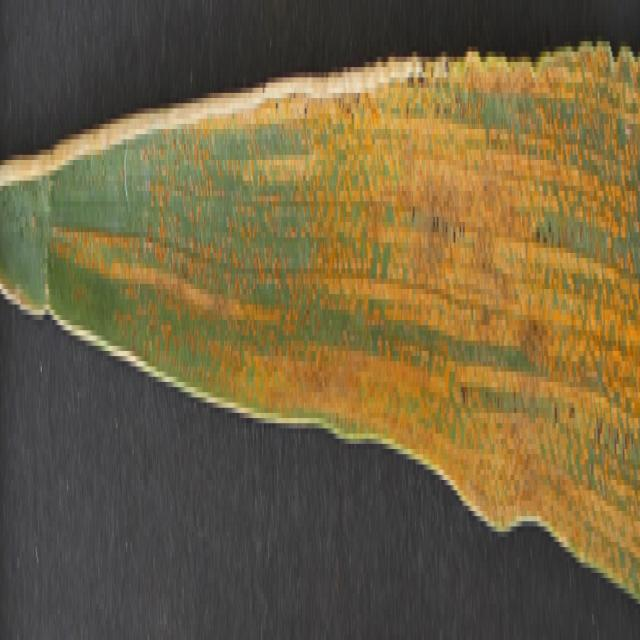leaf rust: (47, 56, 638, 598)
